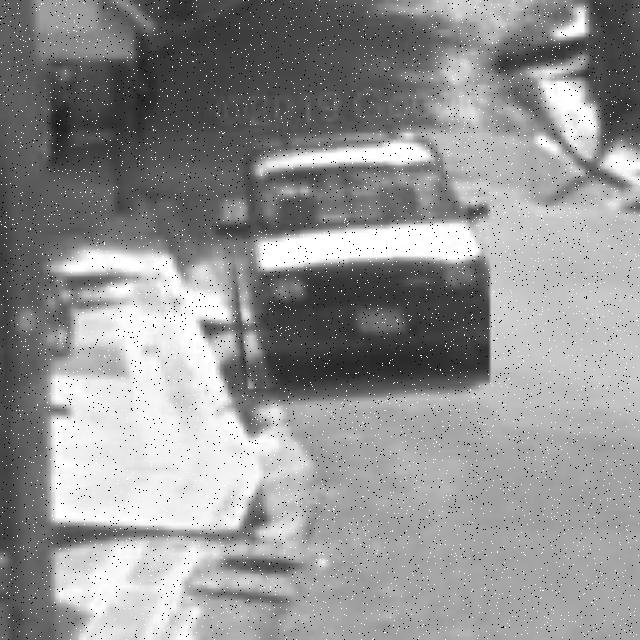car: (223, 134, 491, 390)
